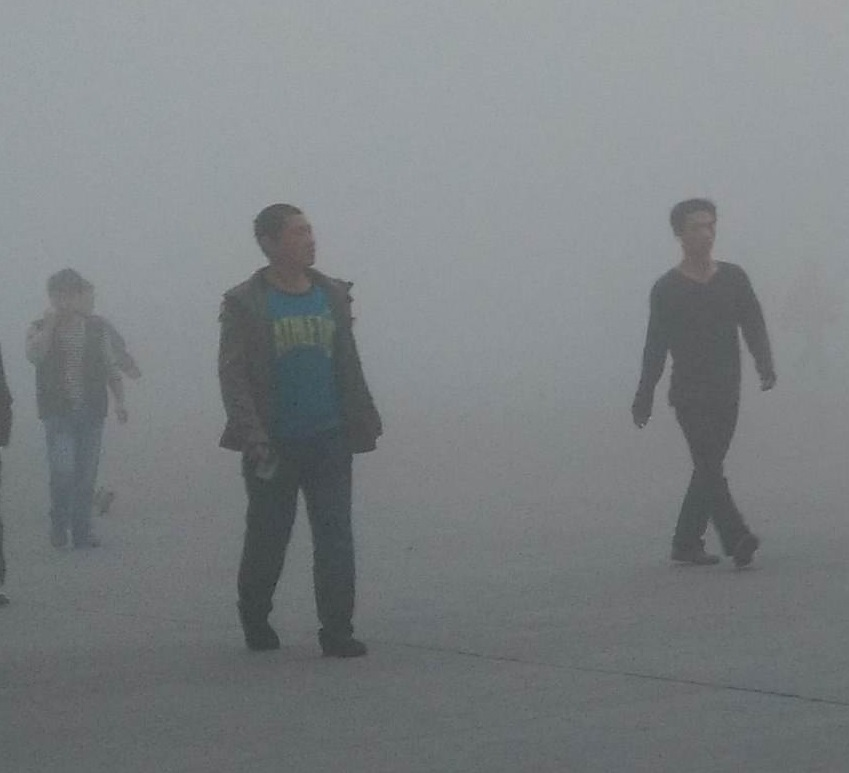person: (213, 202, 389, 660), (626, 194, 785, 574), (23, 263, 146, 554)
